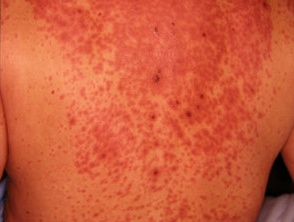SJS-TEN: (16, 0, 275, 222)
